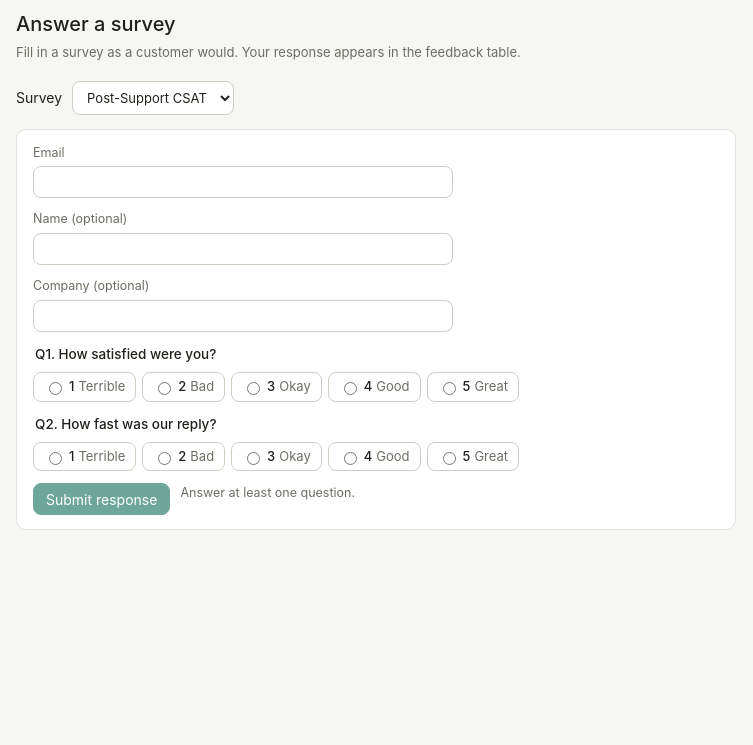
Test: RespondPage comments (Req 3) › offers a text box with a 2,000 character counter
Expected: the form is shown, [16,128,736,530]
Select "Onboarding CSAT" in the dropdown labelled "Survey" at x=153, y=98, box [72,80,234,114]
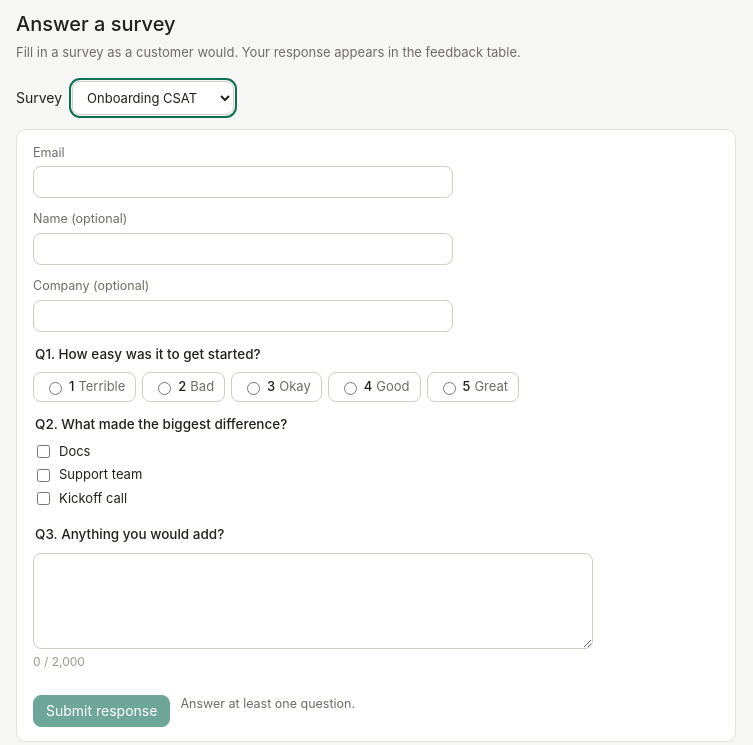
Result: the text "0 / 2,000" is shown at [33,654,85,668]
Type "Great" into the text box named "Anything you would add?" at x=313, y=600, box [33,552,593,648]
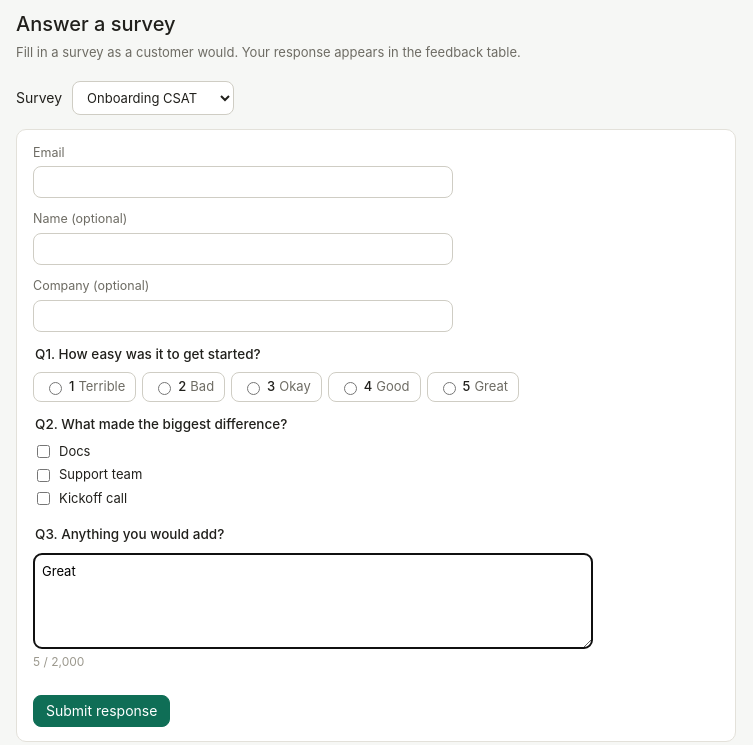
Result: the text "5 / 2,000" is shown at [33,654,84,668]
